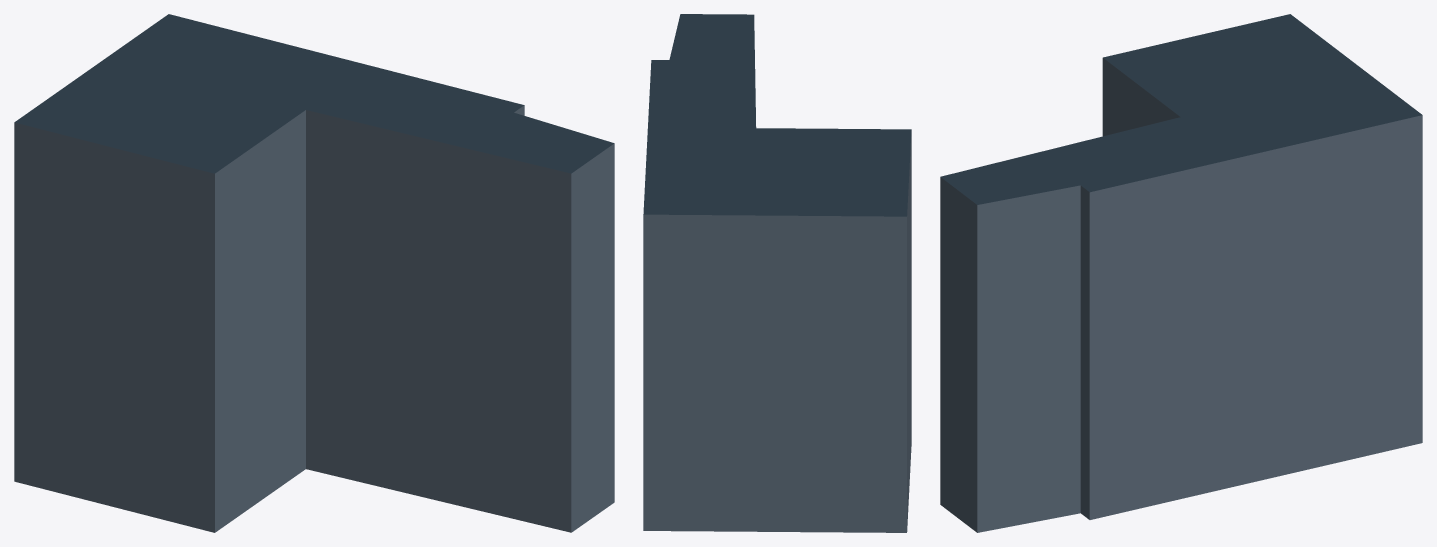
The model's file is nyc-1015277-0.glb.
3 views of the same model, side by side, from view 1: azimuth 30°, elevation 25°; view 2: azimuth 150°, elevation 25°; view 3: azimuth 270°, elevation 25° (orthographic). The views are drawn at different scales.
Visible parts, largest first — view 1: nyc-1015277-0; view 2: nyc-1015277-0; view 3: nyc-1015277-0.
Part boxes in pixels (bbox=[...]): nyc-1015277-0: bbox=[14, 14, 614, 532]; nyc-1015277-0: bbox=[643, 14, 911, 532]; nyc-1015277-0: bbox=[940, 14, 1422, 532].
Bounding box in the file's own units: 50.71 × 40.58 × 54.11.
